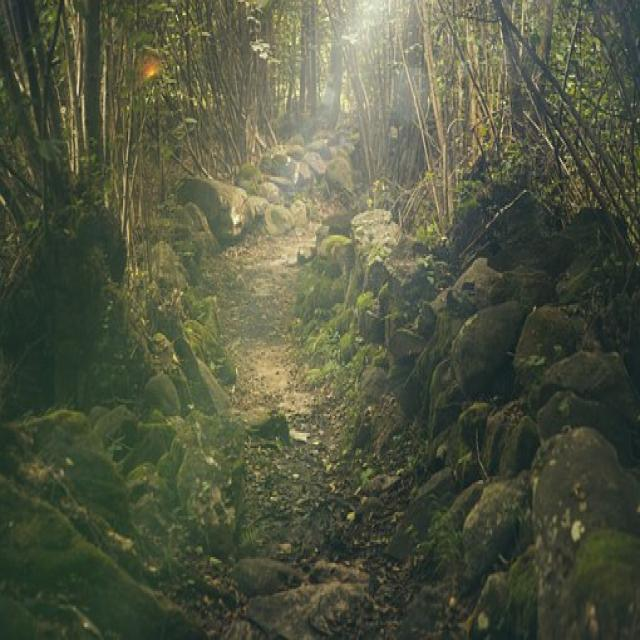Fire: (138, 50, 166, 86)
